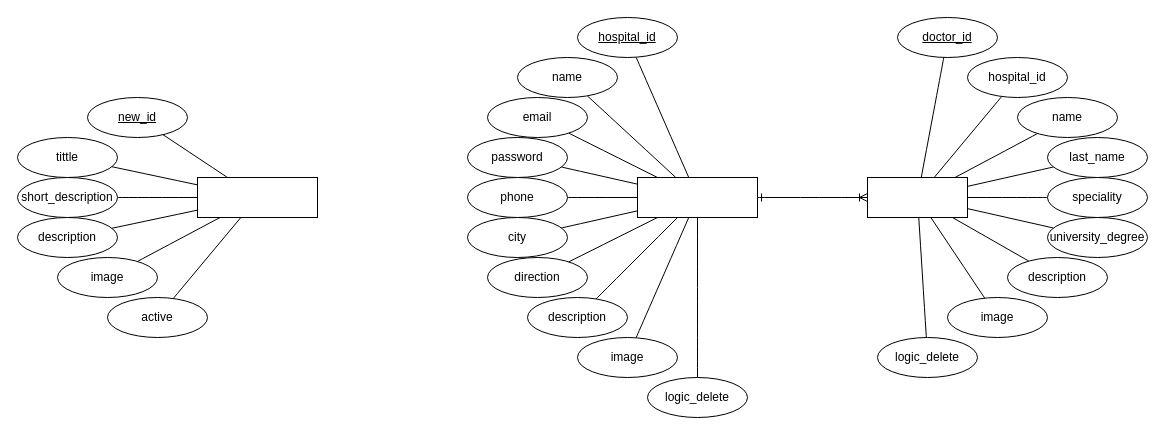
This 1165x435 diagram has some shape labels left out. The centre of each missing label's shape, as x and y in pixels:
"doctor" belongs at pixel 917 197.
"hospital" belongs at pixel 697 197.
"news" belongs at pixel 257 197.
